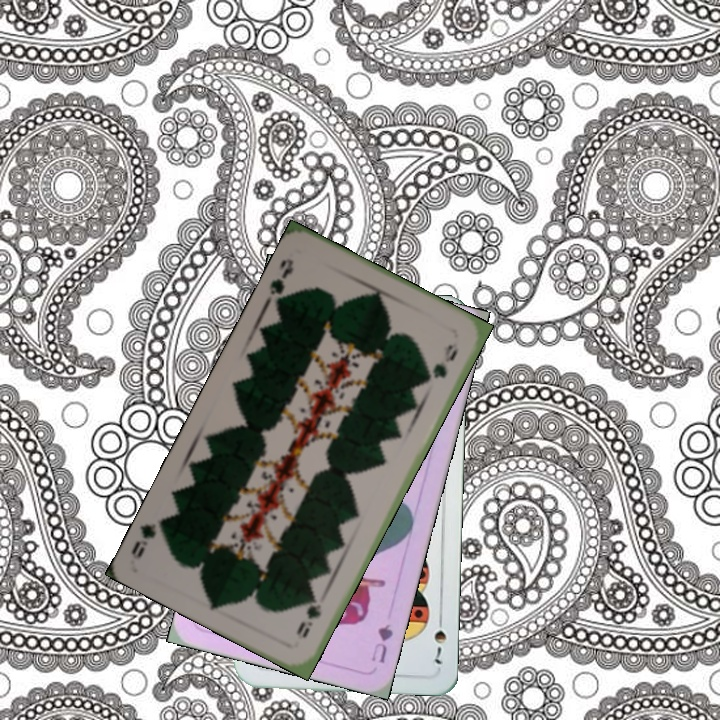G9: (265, 254, 296, 308), (292, 590, 324, 641)
GU: (367, 620, 396, 666)
S7: (430, 610, 448, 666)
